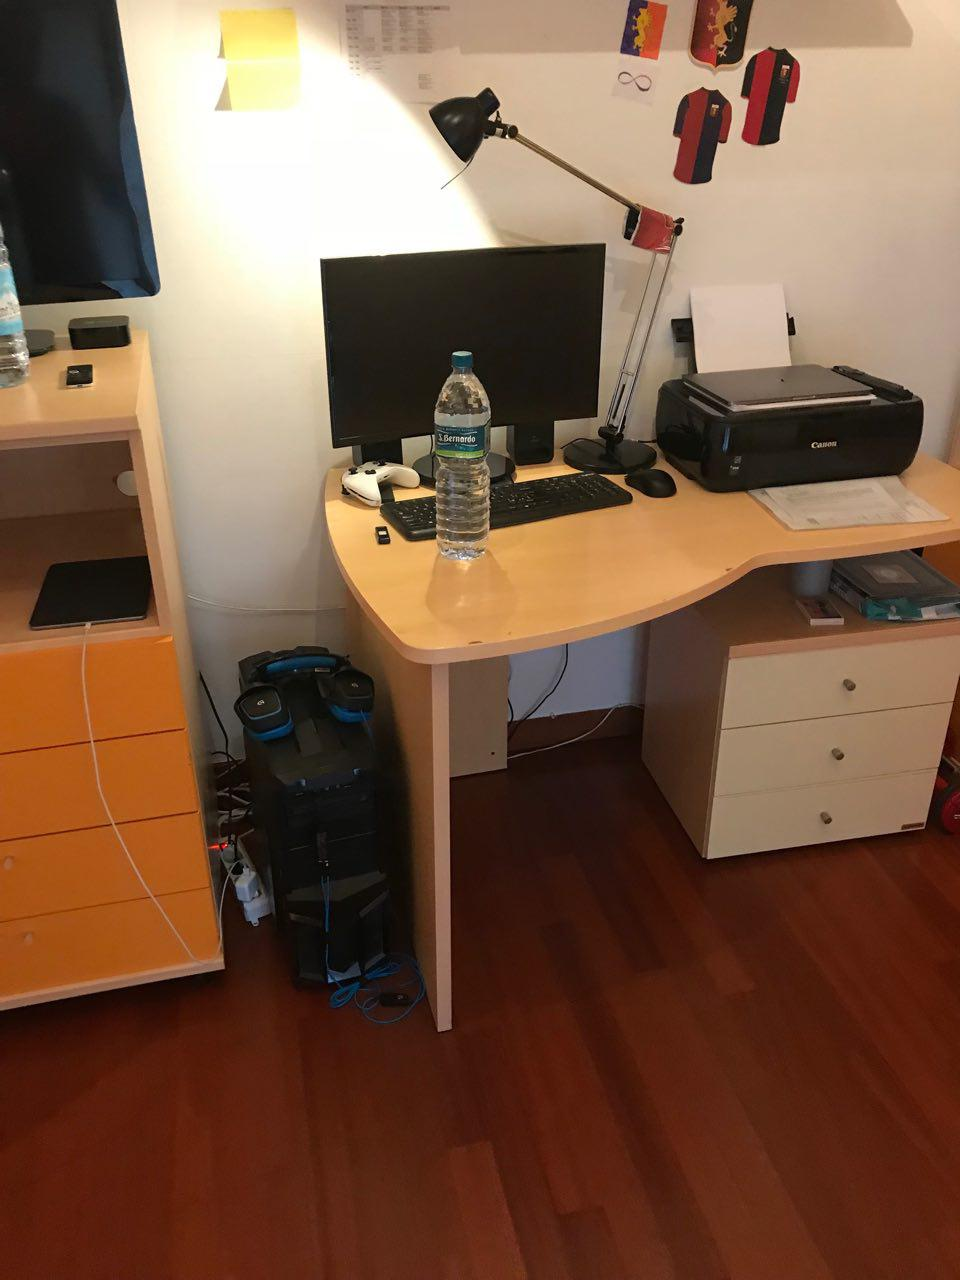san_bernardo: (432, 349, 491, 562)
